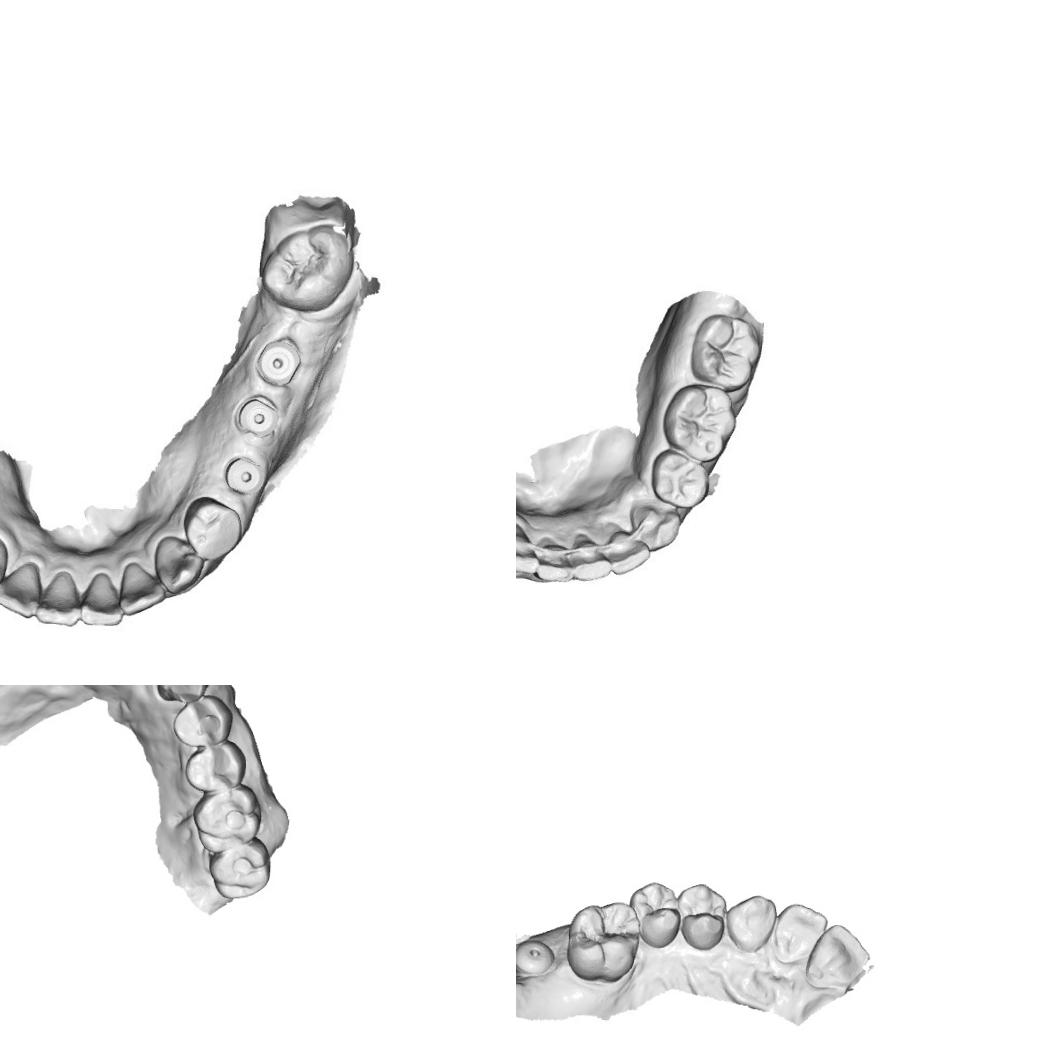canine: (724, 894, 778, 954), (627, 500, 683, 555), (155, 534, 201, 584), (153, 685, 213, 704)
implant: (218, 449, 273, 499), (255, 337, 304, 389), (236, 392, 282, 438), (516, 936, 555, 974)
incisor: (804, 923, 872, 994), (775, 898, 828, 958), (600, 520, 652, 578), (36, 572, 86, 625), (568, 530, 614, 584), (0, 563, 43, 619), (82, 574, 126, 628), (119, 562, 163, 614), (533, 534, 574, 585), (516, 518, 540, 577)
molar: (256, 222, 359, 314), (660, 381, 741, 464), (565, 900, 642, 986), (688, 312, 764, 394), (192, 782, 264, 853), (207, 838, 273, 902)
premolar: (647, 448, 714, 511), (628, 880, 682, 949), (185, 496, 242, 561), (171, 692, 234, 750), (184, 740, 248, 795), (677, 882, 727, 950)
